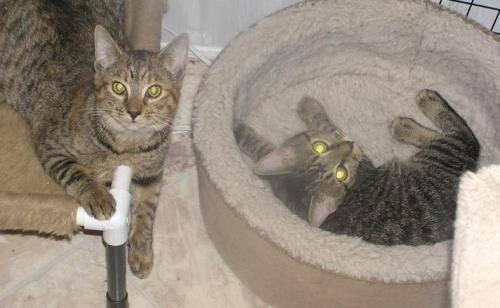cat: (0, 0, 187, 278), (235, 89, 480, 245)
